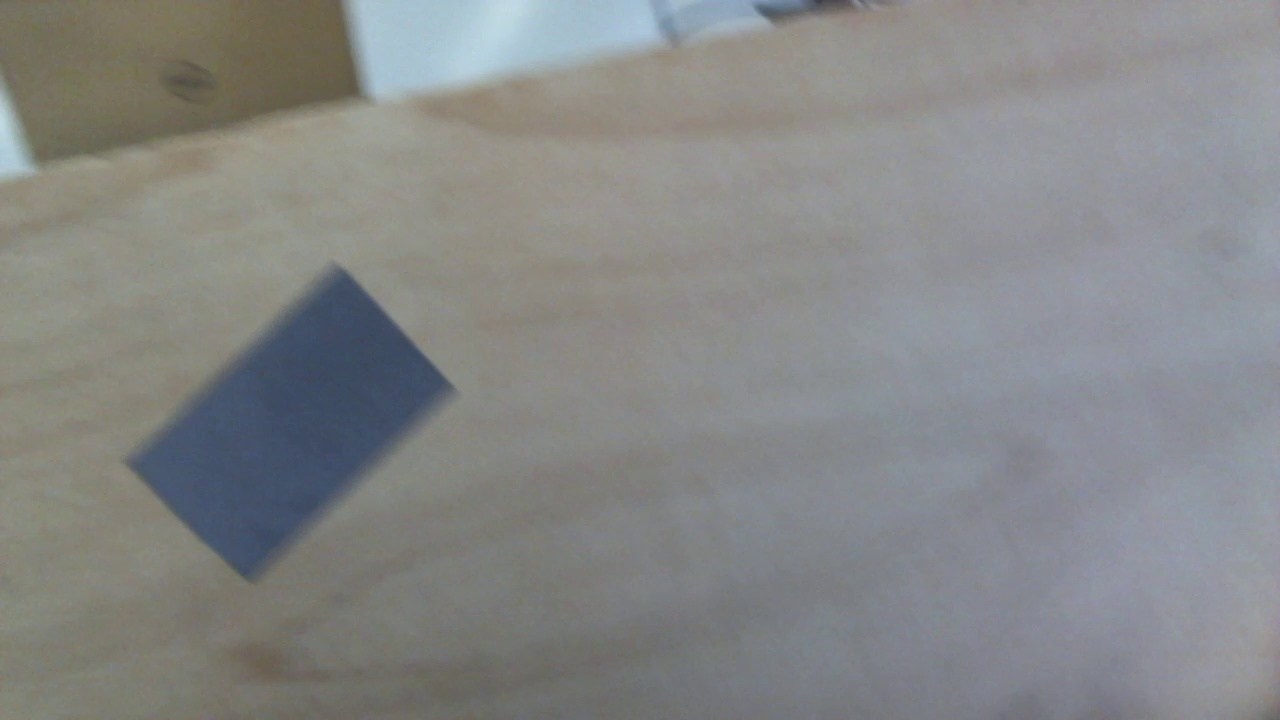Tape: (125, 270, 458, 585)
